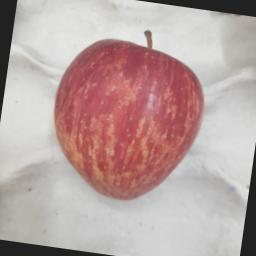Apple Ripe: (35, 16, 219, 218)
